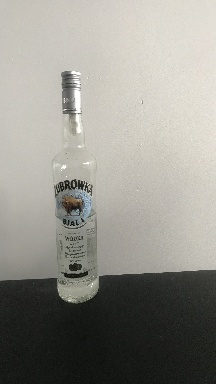butelka: (49, 67, 100, 306)
